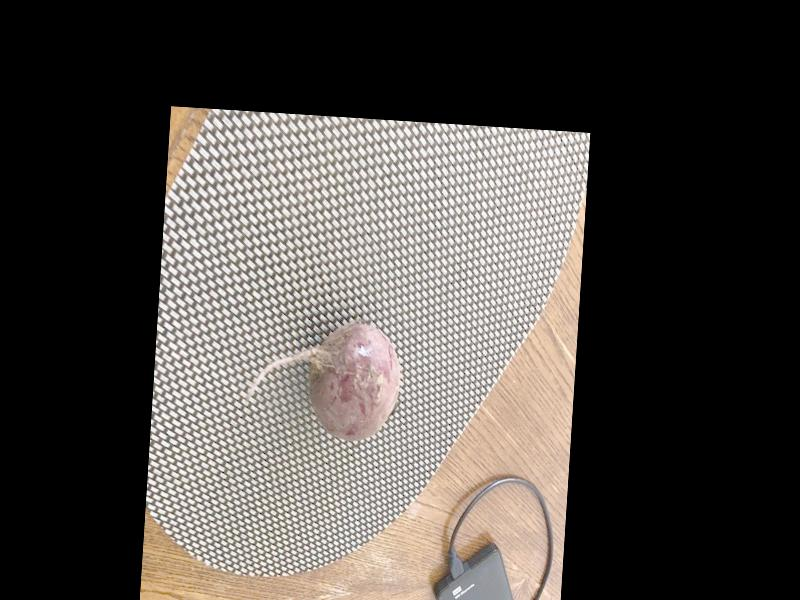Beet: (243, 315, 402, 442)
